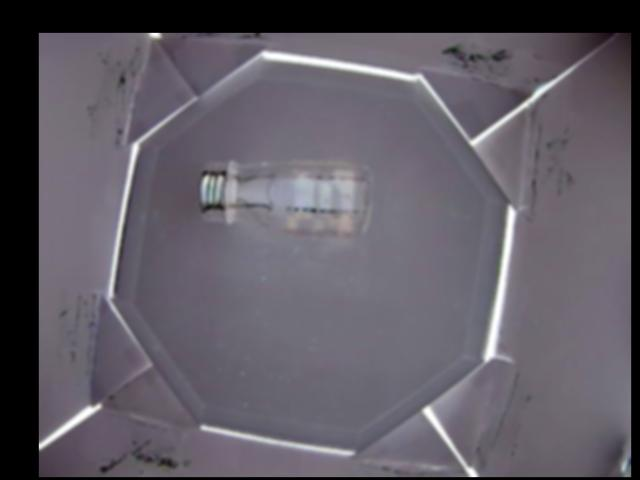Bottle: (197, 160, 375, 240)
